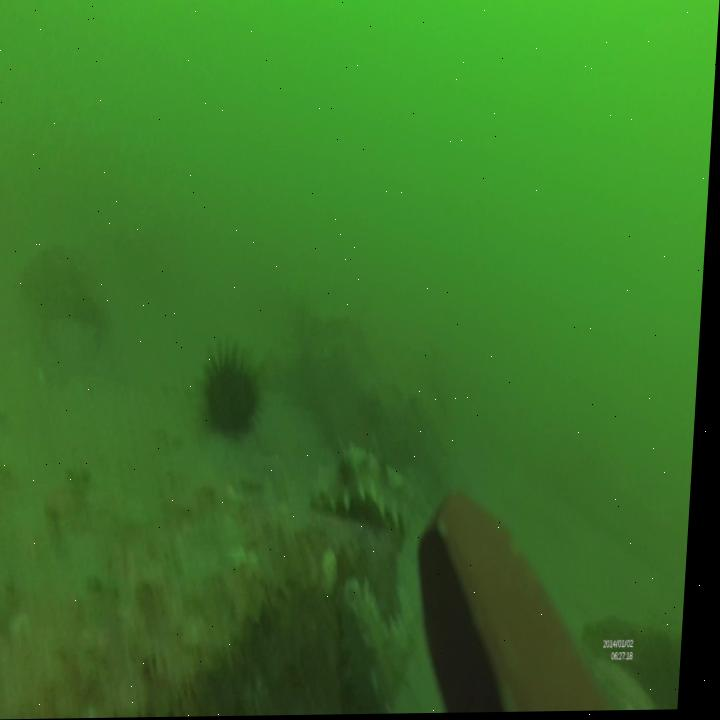echinus: (201, 341, 274, 447)
holothurian: (318, 442, 421, 538)
